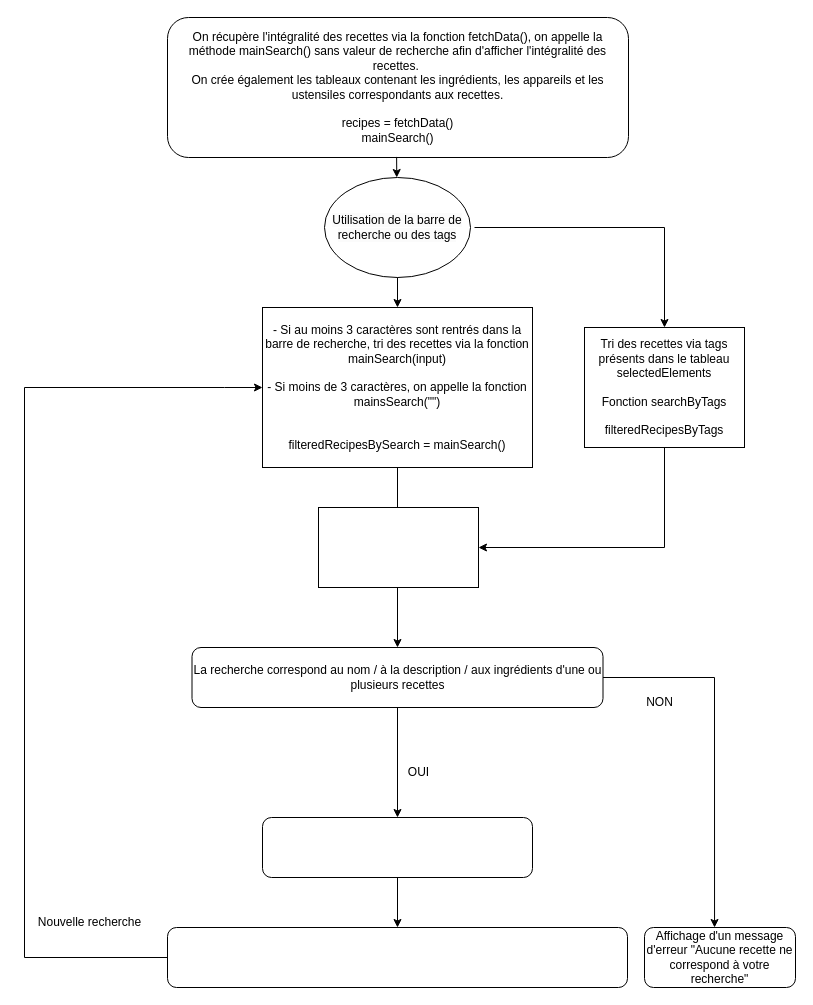
Image size: 813x1005. Some labels were removed from this diagram. Here are the shapes that lost their labels. From the top down, the box of each, then its label:
(318, 506, 478, 588): filteredRecipesBySearch = filteredRecipesByTags
(262, 816, 532, 878): Stockage des recettes dans un nouvel Array filteredRecipes
(166, 926, 628, 988): Affichage des recettes contenues dans filteredRecipes
